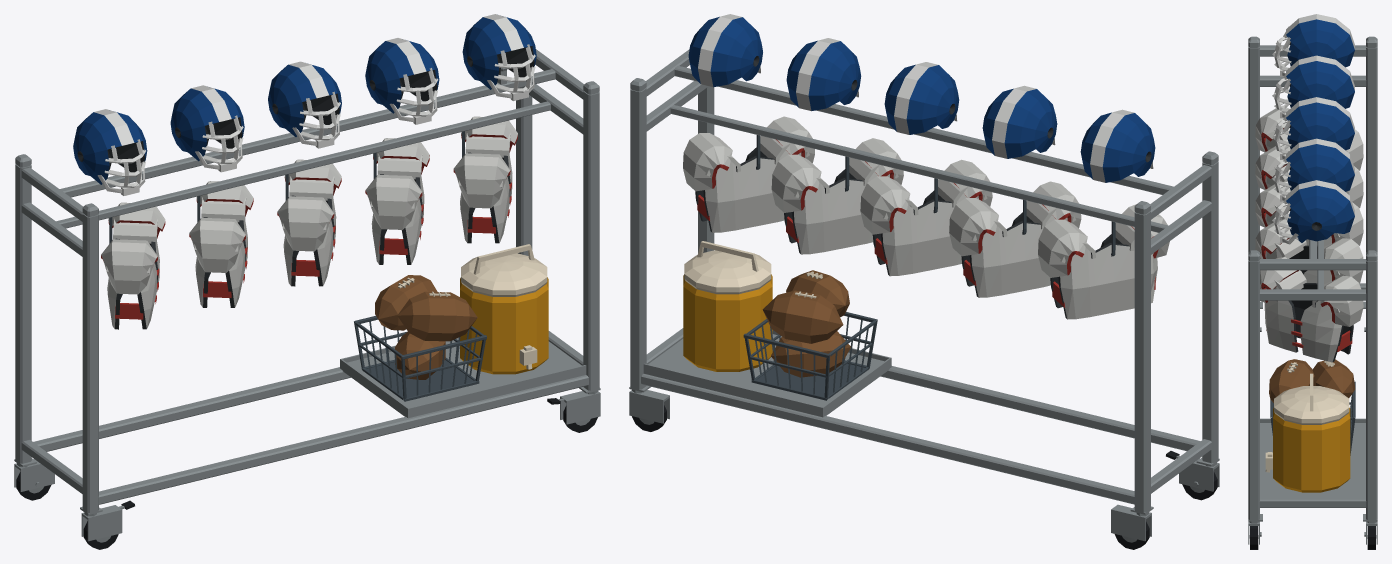
File: equipment-rack-3b617e.glb
3 views of the same model, side by side, from view 1: azimuth 30°, elevation 25°; view 2: azimuth 150°, elevation 25°; view 3: azimuth 270°, elevation 25° (orthographic). The views are drawn at different scales.
Parts seen in each view (by area): view 1: rack-frame, cooler-jug-mesh, helmet-mesh, castor-fl-mesh, castor-fr-mesh, castor-rl-mesh; view 2: rack-frame, cooler-jug-mesh, helmet-mesh, castor-rr-mesh, castor-rl-mesh, castor-fl-mesh; view 3: rack-frame, cooler-jug-mesh, helmet-mesh, castor-fr-mesh, castor-rr-mesh.
Part boxes in pixels (x1,y1,x2,y2): rack-frame: (14, 37, 600, 514); cooler-jug-mesh: (460, 244, 548, 374); helmet-mesh: (462, 14, 536, 100); castor-fl-mesh: (81, 500, 134, 549); castor-fr-mesh: (547, 391, 600, 432); castor-rl-mesh: (14, 459, 54, 500); rack-frame: (629, 38, 1219, 514); cooler-jug-mesh: (683, 241, 772, 371); helmet-mesh: (688, 14, 762, 87); castor-rr-mesh: (629, 389, 669, 431); castor-rl-mesh: (1111, 504, 1151, 549); castor-fl-mesh: (1166, 451, 1219, 500); rack-frame: (1248, 14, 1377, 521); cooler-jug-mesh: (1265, 373, 1350, 492); helmet-mesh: (1272, 180, 1354, 244); castor-fr-mesh: (1248, 521, 1261, 549); castor-rr-mesh: (1364, 521, 1377, 549).
Size of the model in its own units: 2 by 1.48 by 0.5.
